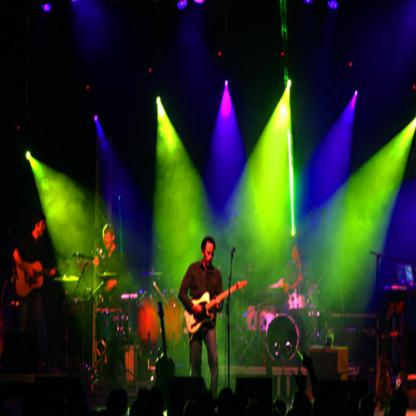face: (205, 243, 214, 268), (288, 292, 299, 310), (105, 232, 113, 249), (39, 221, 46, 236), (293, 246, 299, 263), (397, 379, 403, 390), (329, 328, 332, 334)
